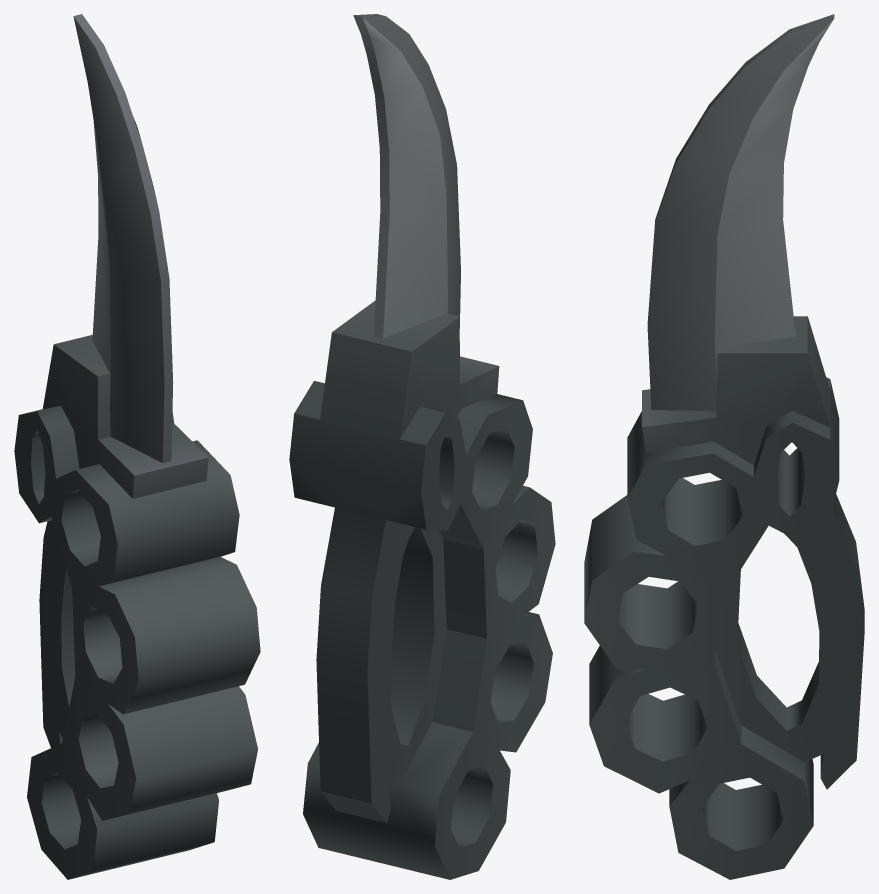
File: MeleeWeaponAgent_Knife_03_Knuckle.fbx
3 views of the same model, side by side, from view 1: azimuth 30°, elevation 25°; view 2: azimuth 150°, elevation 25°; view 3: azimuth 270°, elevation 25° (orthographic). The views are drawn at different scales.
Visible parts, largest first — view 1: Knife03; view 2: Knife03; view 3: Knife03.
Boxes of the visible parts, x1,y1,x2,y2 form: Knife03: (14,14,260,879); Knife03: (289,14,555,879); Knife03: (584,14,864,879).
Bounding box in the file's own units: 0.1091 × 0.6956 × 0.212.
